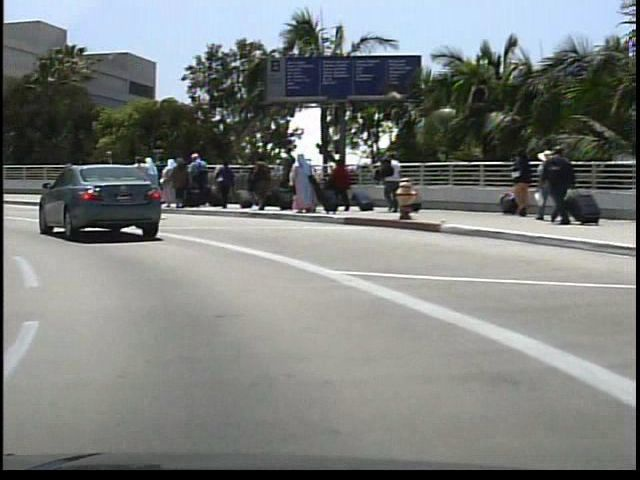person: (539, 143, 571, 226), (376, 148, 403, 214), (64, 152, 92, 212), (96, 148, 123, 208), (126, 153, 145, 204), (66, 156, 86, 197)
